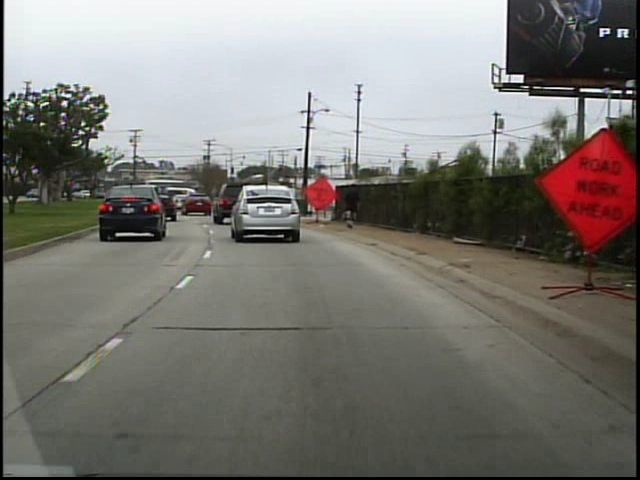person: (340, 180, 365, 231)
